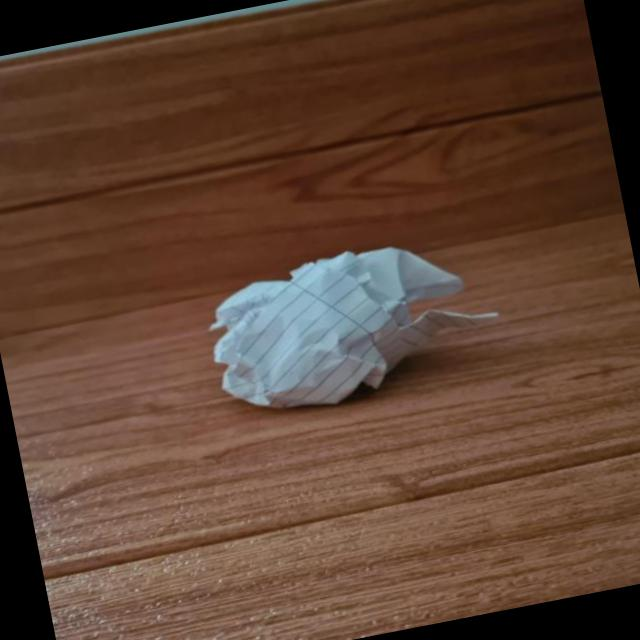cardboard paper: (214, 246, 498, 405)
